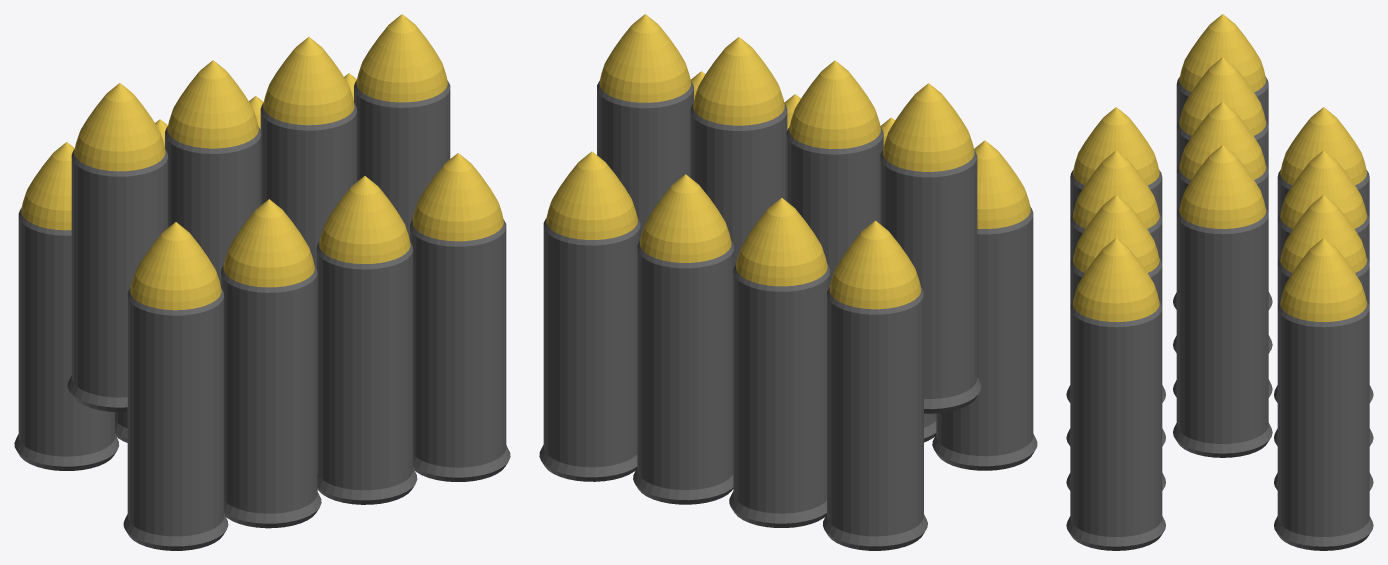
Rendered from Bullets.fbx.
The picture shows the model from 3 angles, left to right: view 1: azimuth 30°, elevation 25°; view 2: azimuth 150°, elevation 25°; view 3: azimuth 270°, elevation 25°; orthographic projection. The views are drawn at different scales.
Parts seen in each view (by area): view 1: Handgun Bullet; view 2: Handgun Bullet; view 3: Handgun Bullet.
Boxes of the visible parts, x1,y1,x2,y2 form: Handgun Bullet: (14, 14, 510, 550); Handgun Bullet: (539, 14, 1037, 550); Handgun Bullet: (1066, 14, 1373, 550).
Bounding box in the file's own units: 615 × 641 × 462.
